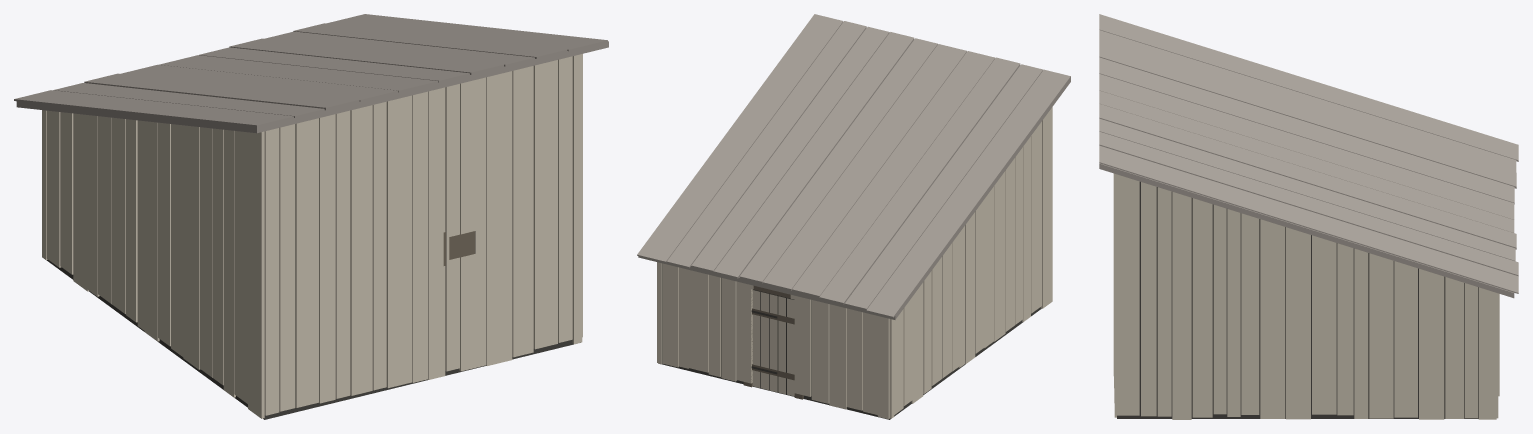
File: recon_1835_north_d2_077__inferred_1835.glb
3 views of the same model, side by side, from view 1: azimuth 30°, elevation 25°; view 2: azimuth 150°, elevation 25°; view 3: azimuth 270°, elevation 25° (orthographic). The views are drawn at different scales.
Parts seen in each view (by area): view 1: recon_1835_north_d2_077__inferred_1835; view 2: recon_1835_north_d2_077__inferred_1835; view 3: recon_1835_north_d2_077__inferred_1835.
Part boxes in pixels (x1,y1,x2,y2): recon_1835_north_d2_077__inferred_1835: (14, 14, 608, 419); recon_1835_north_d2_077__inferred_1835: (637, 14, 1070, 419); recon_1835_north_d2_077__inferred_1835: (1099, 14, 1518, 419).
Size of the model in its own units: 5.15 by 4.29 by 6.16.
